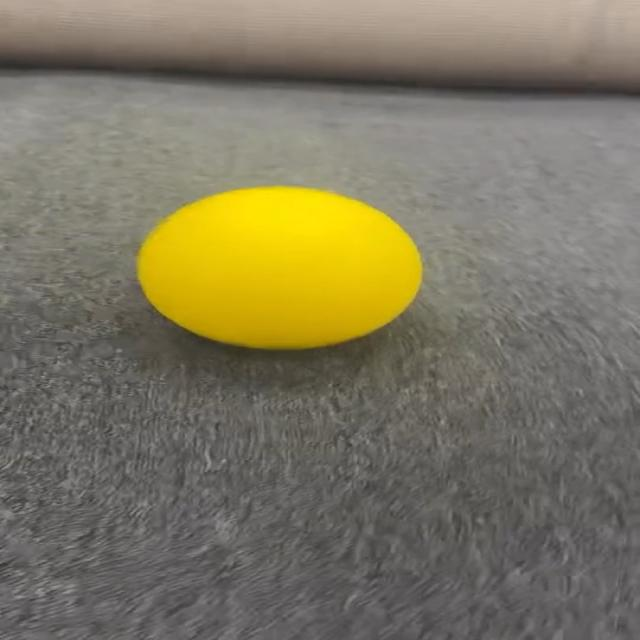Fuels: (137, 187, 419, 348)
